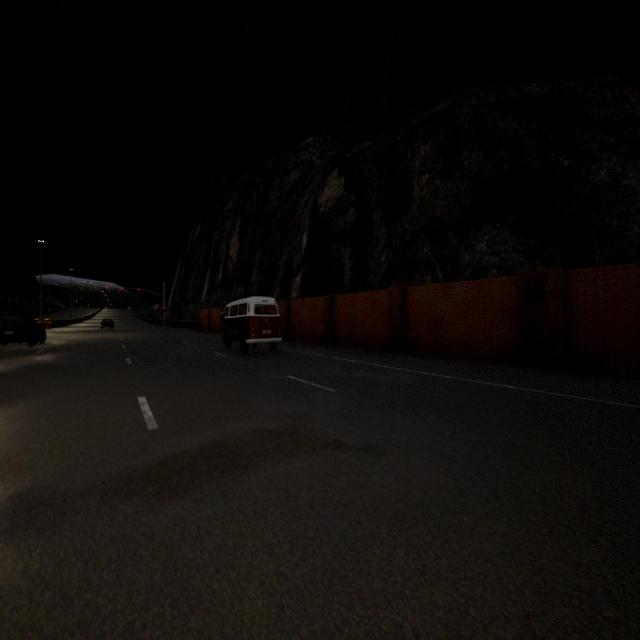Vehicle: (221, 296, 281, 353), (0, 316, 47, 348), (100, 318, 115, 329)
traffic_light: (120, 287, 123, 293), (106, 286, 108, 292), (163, 306, 165, 312), (138, 288, 140, 292)
